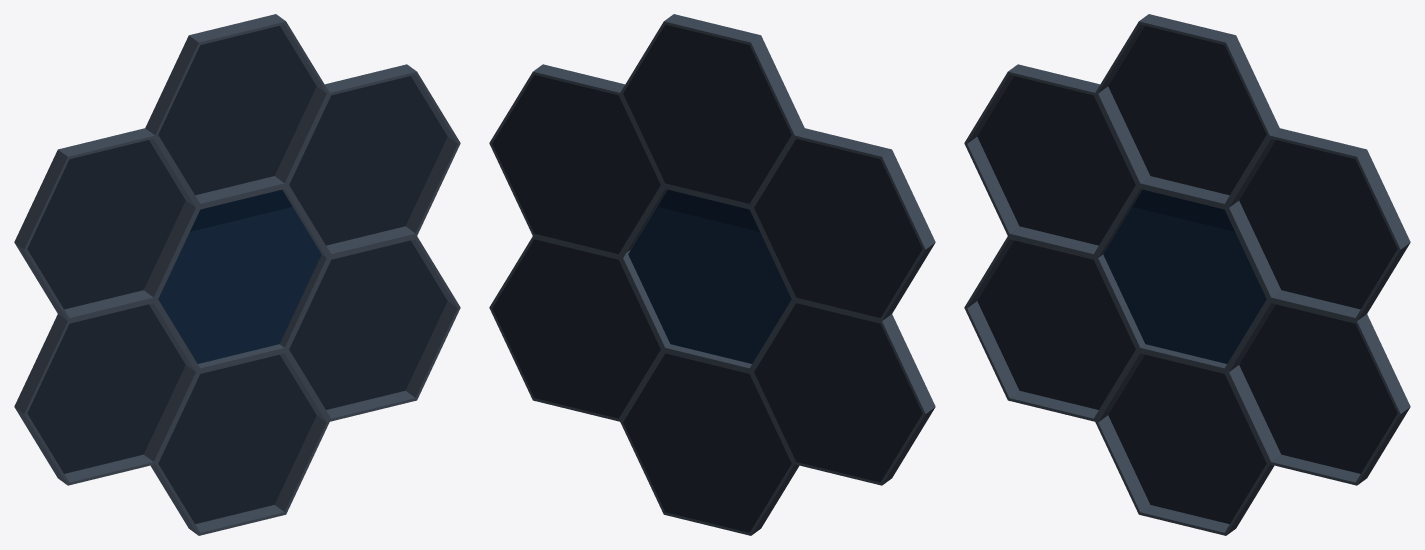
The model's file is hexagono.gltf.
3 renders of one model, left to right at view 1: azimuth 30°, elevation 25°; view 2: azimuth 150°, elevation 25°; view 3: azimuth 330°, elevation 25°, orthographic.
Parts seen in each view (by area): view 1: external_floor_01, internal_border, internal_floor; view 2: external_floor_01, internal_border, internal_floor; view 3: external_floor_01, internal_border, internal_floor.
Part boxes in pixels (box(x1,y1,x2,y2)): external_floor_01: box(27, 25, 447, 524); internal_border: box(14, 14, 460, 535); internal_floor: box(158, 189, 321, 363); external_floor_01: box(492, 24, 922, 532); internal_border: box(489, 14, 935, 535); internal_floor: box(628, 189, 791, 363); external_floor_01: box(977, 25, 1397, 524); internal_border: box(964, 14, 1410, 535); internal_floor: box(1103, 189, 1266, 363).
Bounding box in the file's own units: 12.5 × 13.5 × 0.5.
Materials: 3 (3 with a texture image).
